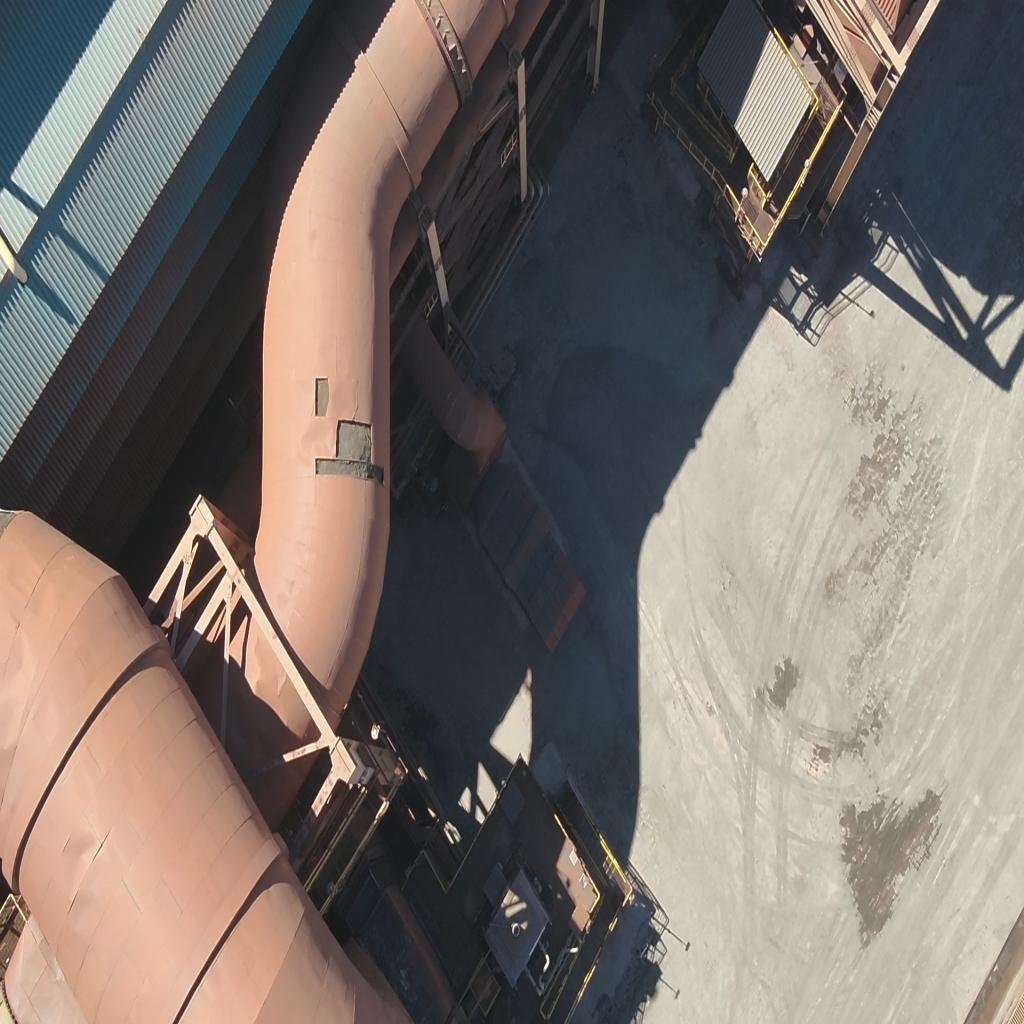Failures: (314, 419, 388, 482), (303, 378, 334, 416)
